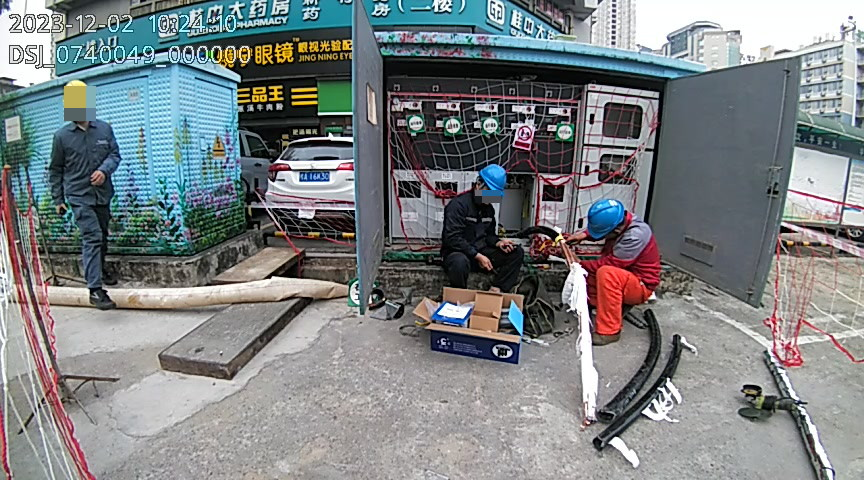downsuit: (71, 207, 109, 290)
halt: (587, 198, 630, 239), (474, 163, 508, 203), (64, 80, 94, 124)
hand: (471, 251, 496, 270), (87, 168, 105, 188), (496, 240, 518, 254)
inear: (471, 173, 488, 197)
person: (48, 78, 122, 300), (567, 198, 665, 343), (435, 161, 525, 291)
upcloth: (569, 216, 665, 289)
upsuit: (51, 120, 121, 202), (442, 191, 504, 262)
worksign: (346, 277, 380, 307)
ydownsuit: (583, 264, 662, 334)
